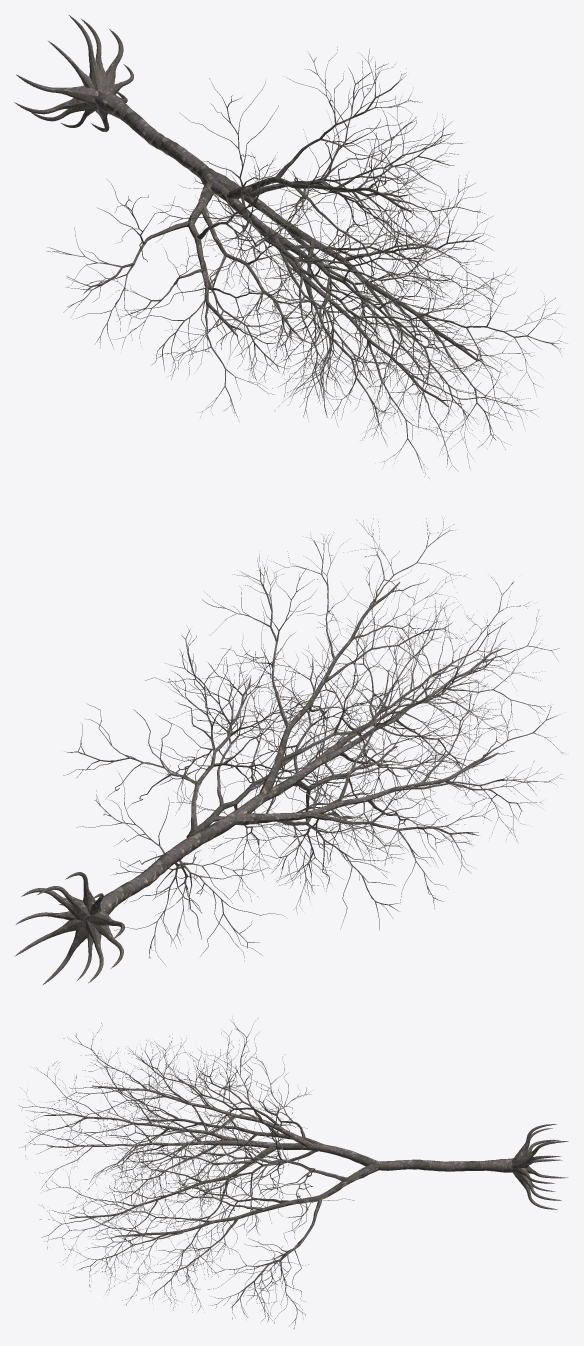
The model's file is EA13y_0Percent.obj.
3 views of the same model, one above another, from view 1: azimuth 30°, elevation 25°; view 2: azimuth 150°, elevation 25°; view 3: azimuth 270°, elevation 25° (orthographic). The views are drawn at different scales.
Parts seen in each view (by area): view 1: EA13y; view 2: EA13y; view 3: EA13y.
Part boxes in pixels (x1,y1,x2,y2): EA13y: [14, 15, 567, 478]; EA13y: [14, 514, 566, 985]; EA13y: [19, 1016, 568, 1328].
Size of the model in its own units: 4.03 by 3.69 by 6.96.
Materials: 2 (2 with a texture image).
